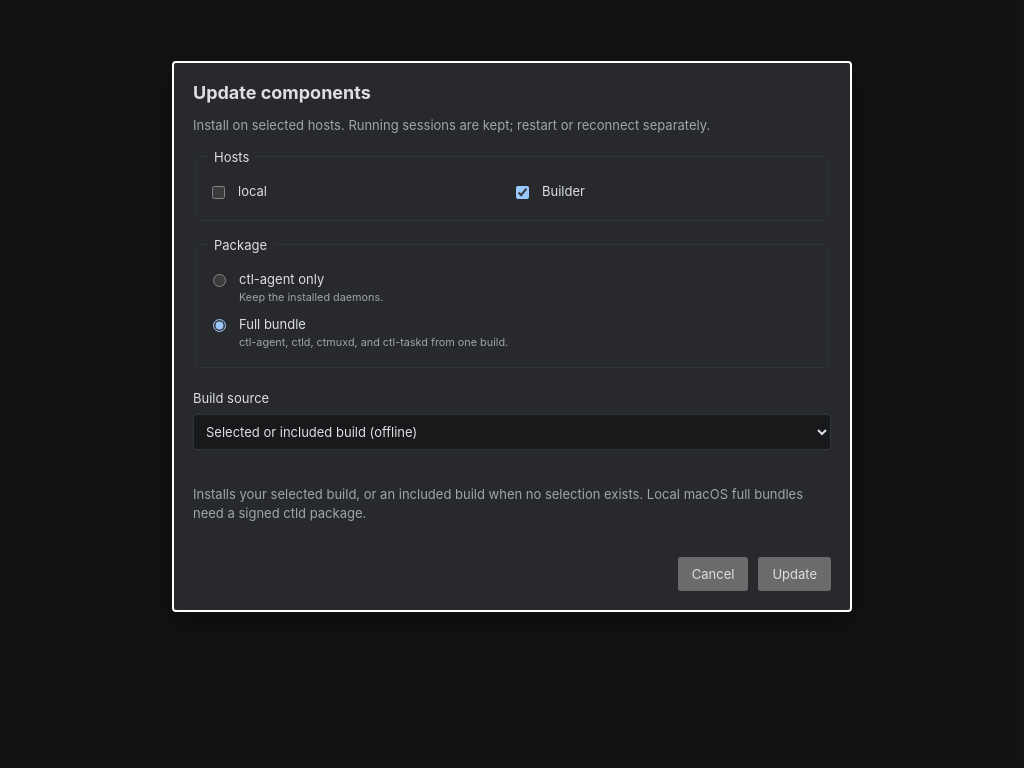
keeps an explicit offline install available without a network check
The image size is (1024, 768).
Click the button "Update" at (795, 574), box [758, 557, 831, 591]
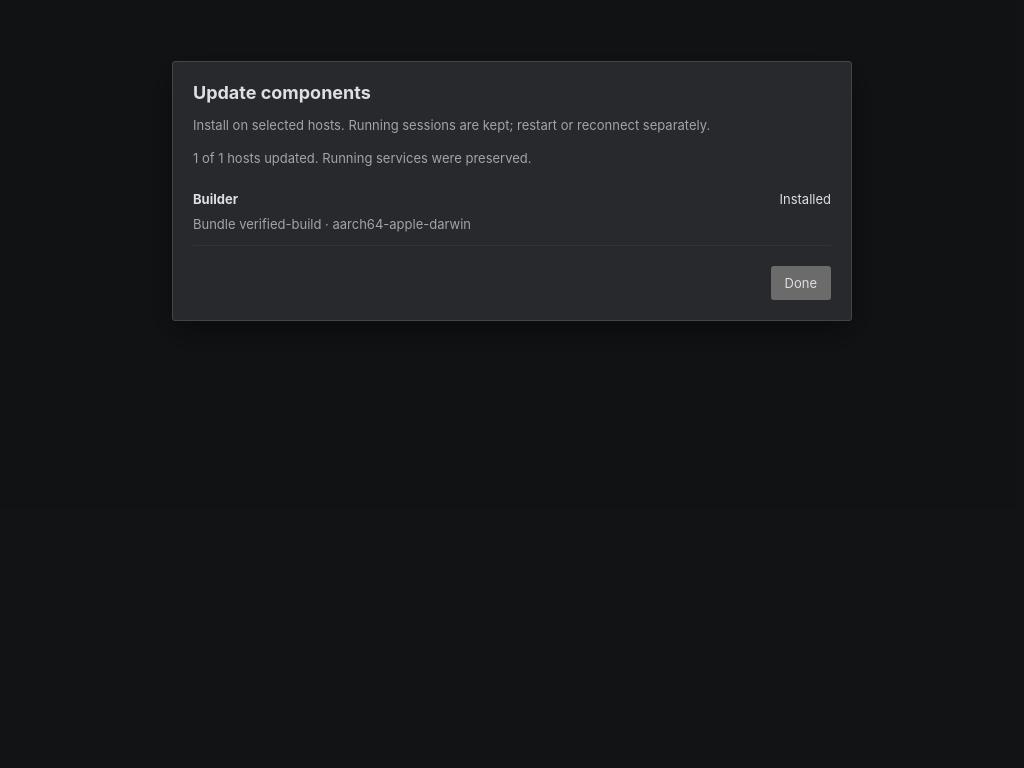
Expected: the text "1 of 1 hosts updated. Running services were preserved." is shown, [193, 150, 532, 166]
